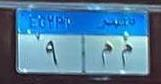9: (43, 39, 59, 66)
meem: (98, 41, 114, 69), (120, 43, 134, 70)
